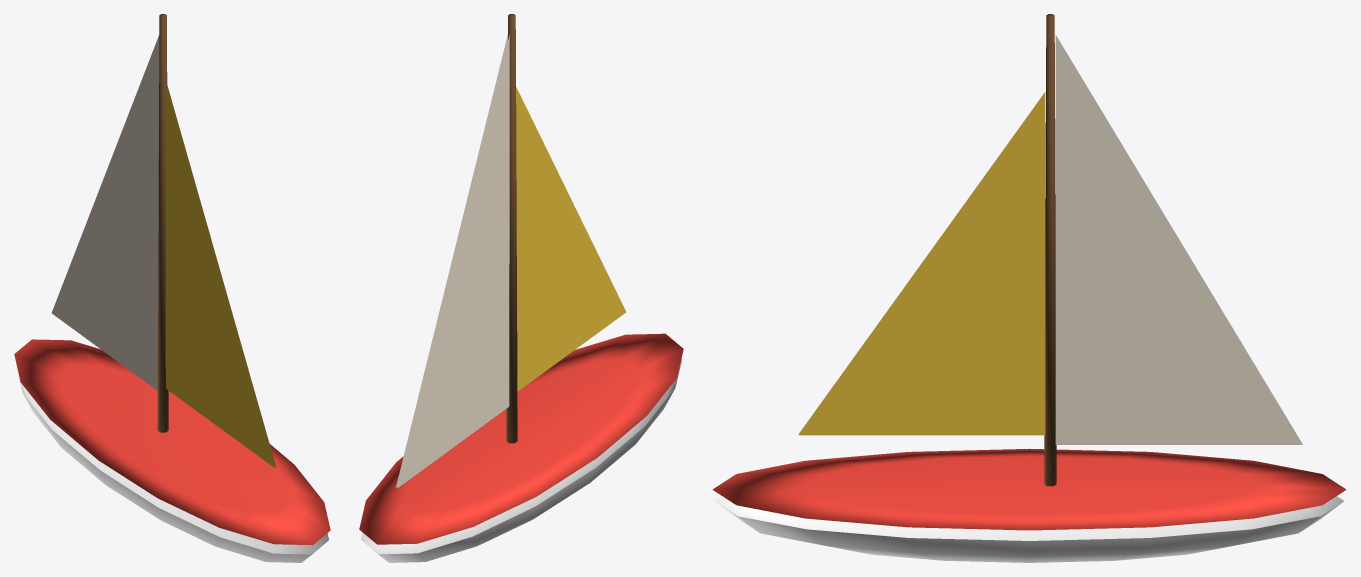
The model's file is sailboat.glb.
3 views of the same model, side by side, from view 1: azimuth 30°, elevation 25°; view 2: azimuth 150°, elevation 25°; view 3: azimuth 270°, elevation 25° (orthographic). The views are drawn at different scales.
Parts seen in each view (by area): view 1: Sailboat; view 2: Sailboat; view 3: Sailboat.
Boxes of the visible parts, x1,y1,x2,y2 form: Sailboat: (14,14,330,562); Sailboat: (359,14,683,562); Sailboat: (712,14,1346,562).
Bounding box in the file's own units: 1.84 × 5.6 × 6.04.
